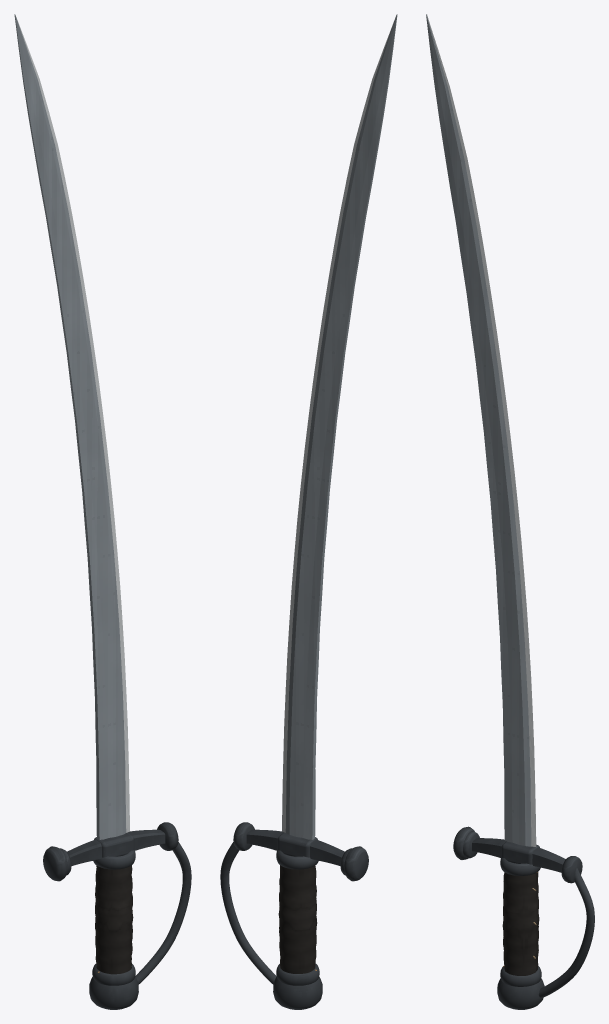
The model's file is saber.lod1.glb.
3 views of the same model, side by side, from view 1: azimuth 30°, elevation 25°; view 2: azimuth 150°, elevation 25°; view 3: azimuth 330°, elevation 25° (orthographic). The views are drawn at different scales.
Visible parts, largest first — view 1: steel / forged blade steel, darksteel / oil-blackened fittings, leather / oiled leather wrap, edge / honed bright bevel; view 2: steel / forged blade steel, darksteel / oil-blackened fittings, leather / oiled leather wrap, edge / honed bright bevel; view 3: steel / forged blade steel, darksteel / oil-blackened fittings, edge / honed bright bevel, leather / oiled leather wrap.
Part boxes in pixels (x1=…): steel / forged blade steel: x1=14, y1=14, x2=126, y2=839; darksteel / oil-blackened fittings: x1=43, y1=822, x2=191, y2=1009; leather / oiled leather wrap: x1=95, y1=865, x2=133, y2=974; edge / honed bright bevel: x1=17, y1=20, x2=129, y2=832; steel / forged blade steel: x1=285, y1=14, x2=397, y2=839; darksteel / oil-blackened fittings: x1=220, y1=822, x2=368, y2=1009; leather / oiled leather wrap: x1=278, y1=865, x2=317, y2=973; edge / honed bright bevel: x1=282, y1=20, x2=394, y2=832; steel / forged blade steel: x1=426, y1=14, x2=531, y2=846; darksteel / oil-blackened fittings: x1=453, y1=826, x2=594, y2=1009; edge / honed bright bevel: x1=426, y1=14, x2=536, y2=846; leather / oiled leather wrap: x1=502, y1=872, x2=539, y2=975.
Size of the model in its own units: 0.1818 by 0.9955 by 0.0444.
Materials: 6 (4 with a texture image).
